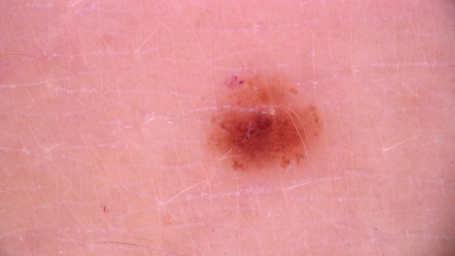melanoma: (207, 76, 323, 172)
